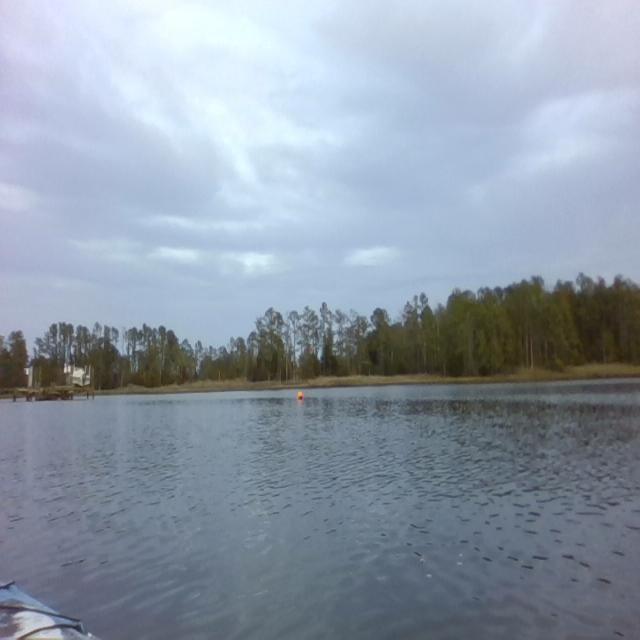Buoy: (296, 385, 305, 406)
